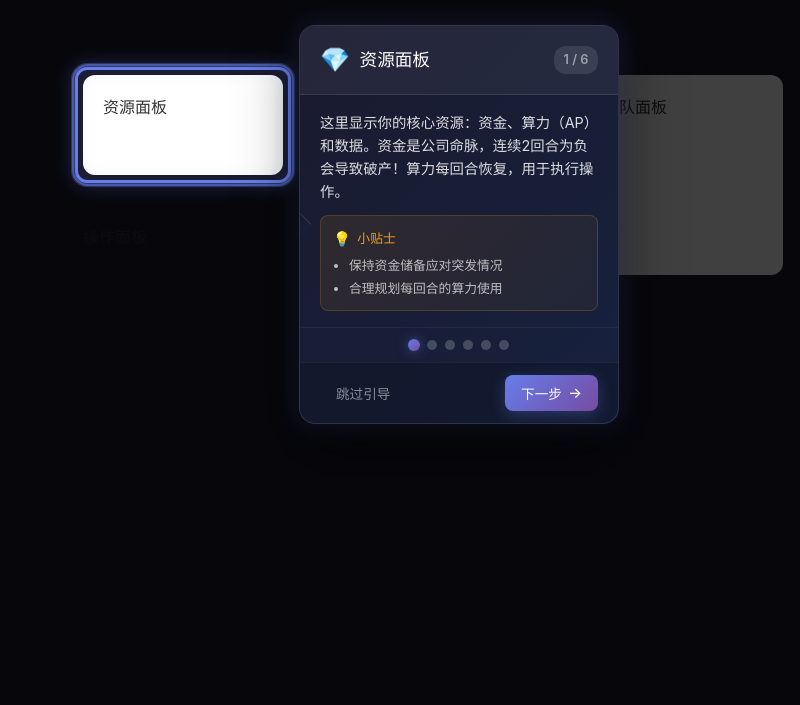
Test: 引导完成流程集成测试 › 引导进度指示器应该正确显示当前步骤
Expected: the text "1 / 6" is shown, [554, 46, 598, 74]
What coordinates should you click on to do the following:
click the button "下一步 →"
I would click on:
 (552, 393)
Its box is [505, 375, 598, 411].
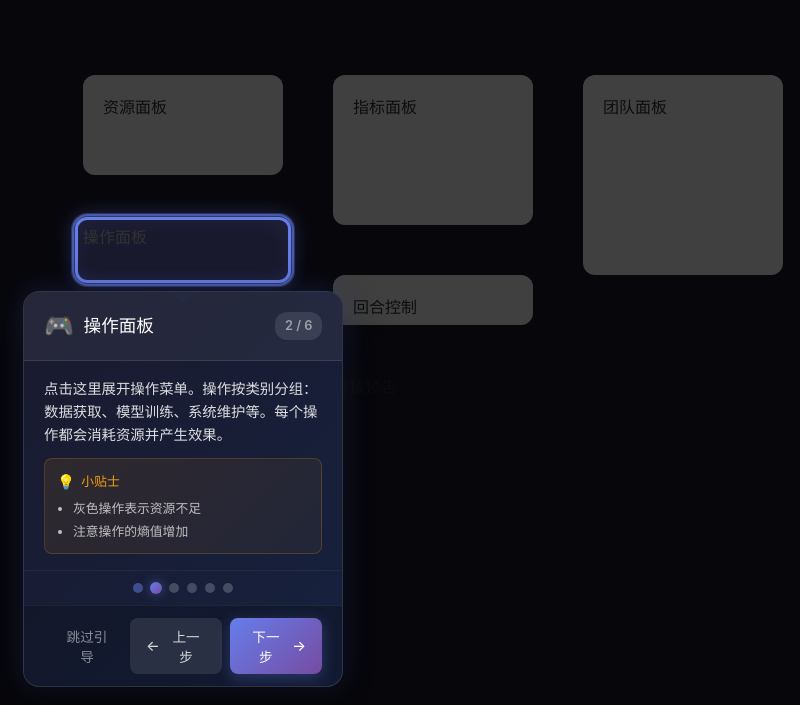
Result: the text "2 / 6" is shown at [275, 312, 322, 340]
